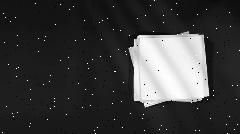paper: (128, 32, 210, 108)
